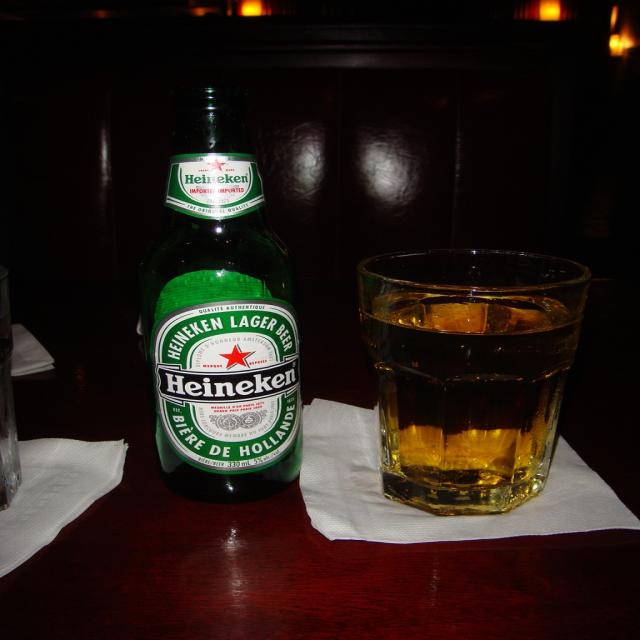heineken: (155, 302, 304, 476)
